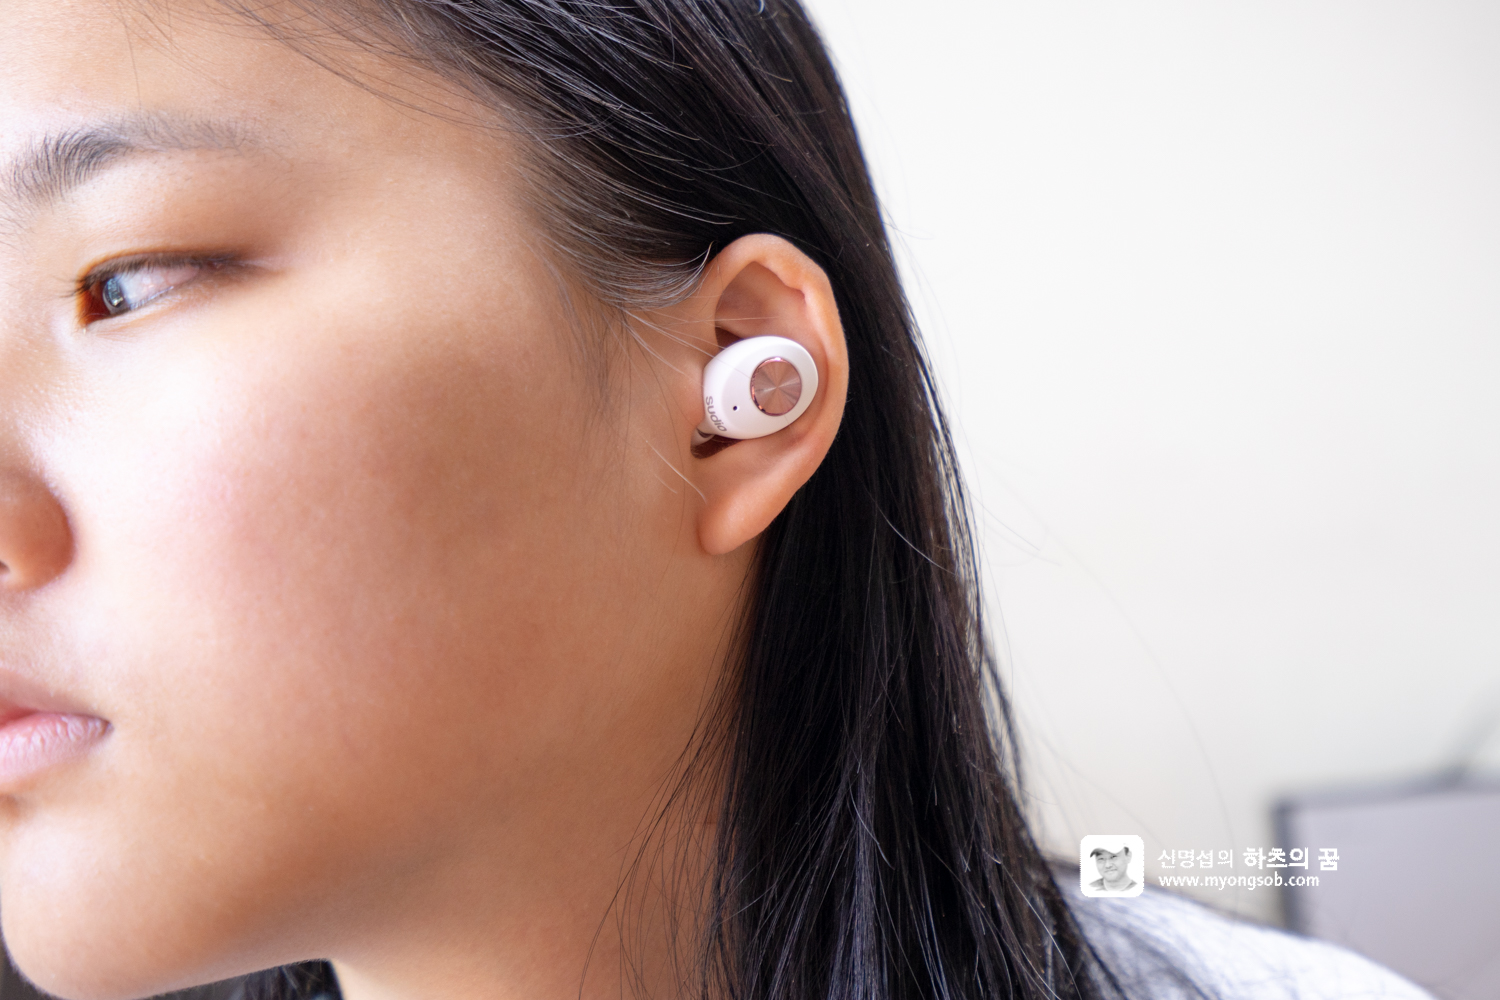earphone: (670, 234, 849, 558)
